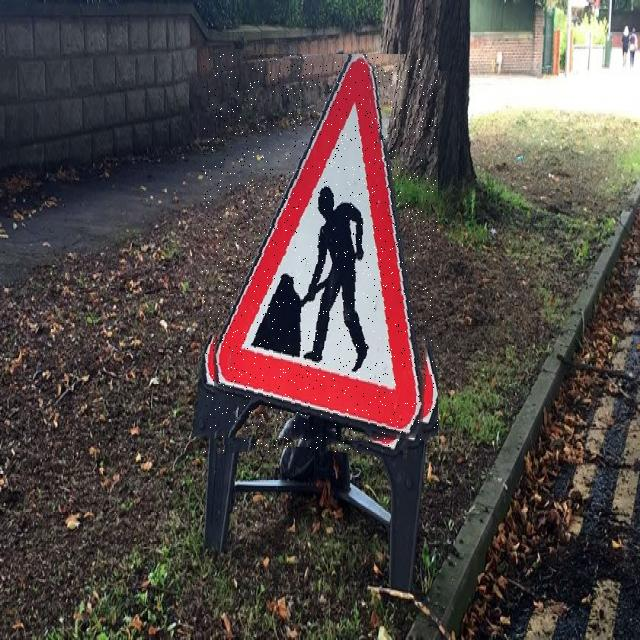roadwork: (202, 54, 438, 454)
